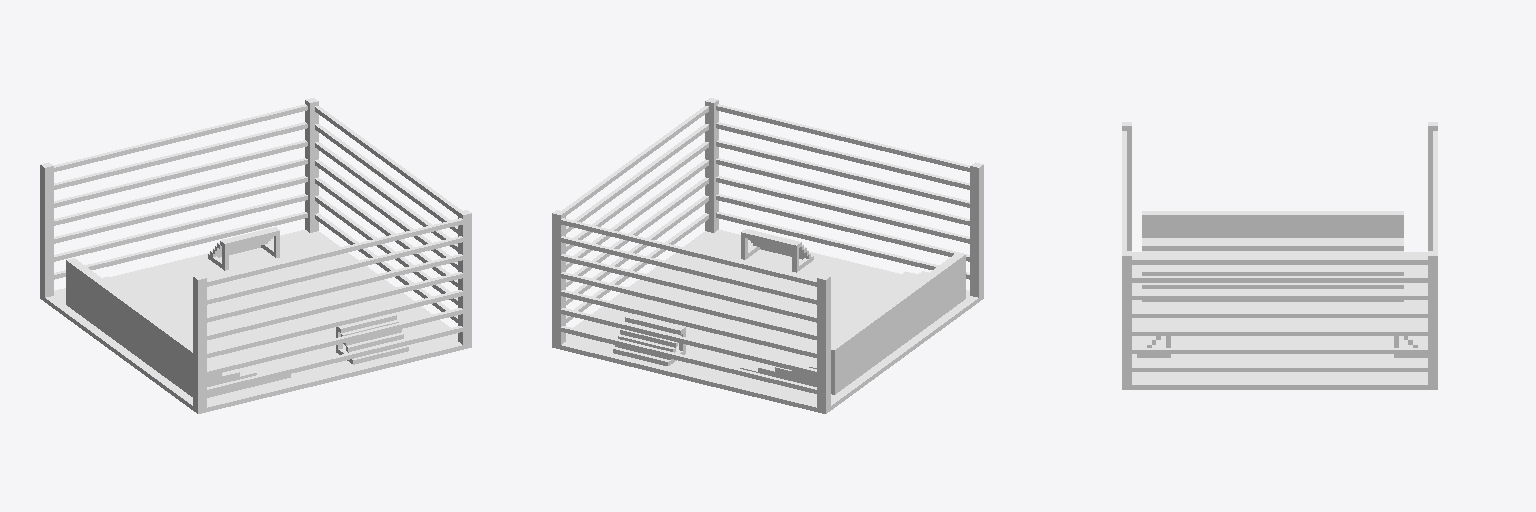
File: football.obj
3 views of the same model, side by side, from view 1: azimuth 30°, elevation 25°; view 2: azimuth 150°, elevation 25°; view 3: azimuth 270°, elevation 25° (orthographic).
Parts seen in each view (by area): view 1: object 1; view 2: object 1; view 3: object 1.
Part boxes in pixels (left/top/right/bottom): object 1: left=40, top=98, right=471, bottom=413; object 1: left=552, top=98, right=983, bottom=413; object 1: left=1122, top=122, right=1437, bottom=389.
Size of the model in its own units: 6.4 by 3 by 6.4.